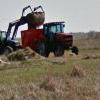Tractor: (8, 5, 78, 61)
